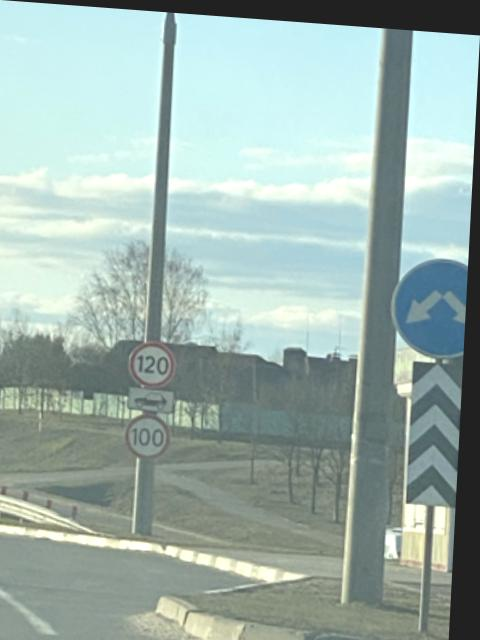limit100: (128, 410, 178, 456)
limit120: (129, 331, 185, 389)
